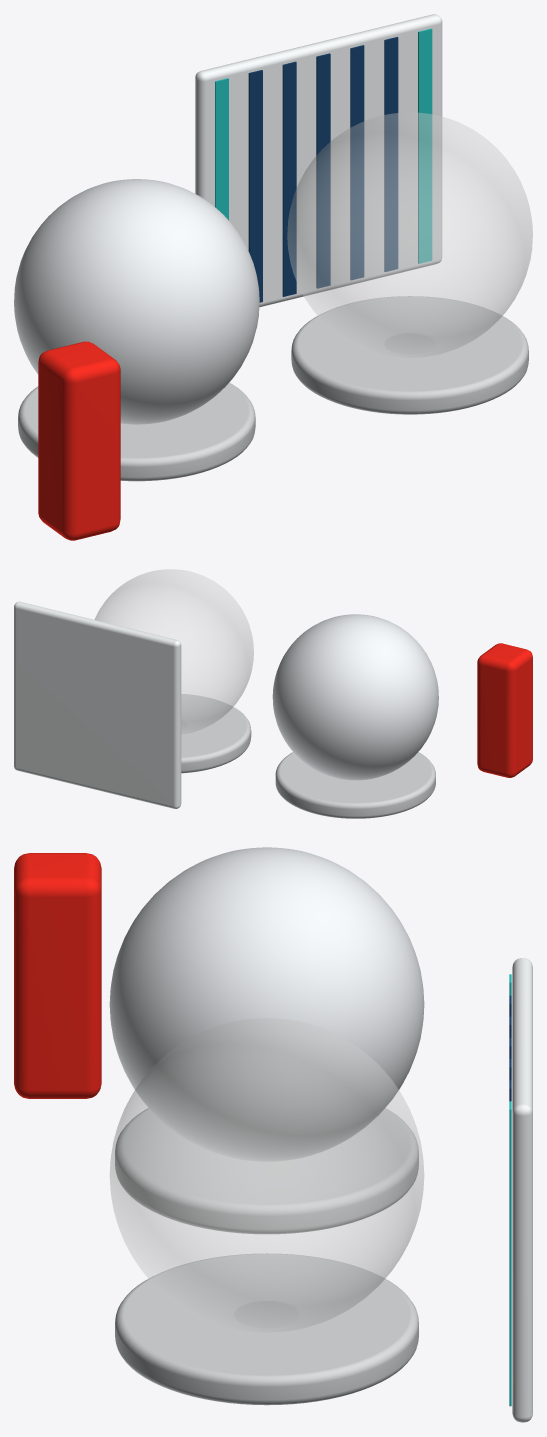
The model's file is material-optics.glb.
3 renders of one model, top to bottom at view 1: azimuth 30°, elevation 25°; view 2: azimuth 150°, elevation 25°; view 3: azimuth 270°, elevation 25°, orthographic. The views are drawn at different scales.
Visible parts, largest first — view 1: Glass sphere, Silver sphere, Reference panel, Glass sphere plinth, Red target, Silver sphere plinth, Stripe 4, Stripe 5, Stripe 3, Stripe 7, Stripe 6, Stripe 2 (+1 smaller); view 2: Reference panel, Silver sphere, Glass sphere, Red target, Silver sphere plinth, Glass sphere plinth; view 3: Silver sphere, Glass sphere, Glass sphere plinth, Silver sphere plinth, Red target, Reference panel, Stripe 7.
Boxes of the visible parts, box(x1,y1,x2,y2) form: Glass sphere: box(287, 112, 532, 357); Silver sphere: box(14, 179, 259, 424); Reference panel: box(195, 14, 442, 307); Glass sphere plinth: box(291, 296, 528, 414); Red target: box(38, 341, 120, 540); Silver sphere plinth: box(18, 382, 255, 481); Stripe 4: box(316, 53, 330, 288); Stripe 5: box(350, 45, 364, 280); Stripe 3: box(282, 61, 296, 296); Stripe 7: box(418, 28, 432, 263); Stripe 6: box(384, 37, 398, 271); Stripe 2: box(248, 70, 262, 302); Reference panel: box(14, 601, 181, 808); Silver sphere: box(272, 614, 438, 780); Glass sphere: box(94, 569, 253, 734); Red target: box(477, 643, 532, 777); Silver sphere plinth: box(275, 752, 435, 818); Glass sphere plinth: box(181, 694, 251, 773); Silver sphere: box(109, 847, 424, 1161); Glass sphere: box(110, 1018, 423, 1332); Glass sphere plinth: box(115, 1253, 418, 1405); Silver sphere plinth: box(115, 1108, 418, 1234); Red target: box(14, 853, 101, 1098); Reference panel: box(512, 958, 532, 1422); Stripe 7: box(509, 1101, 511, 1406).
Bounding box in the file's own units: 4.73 × 1.96 × 2.9.
